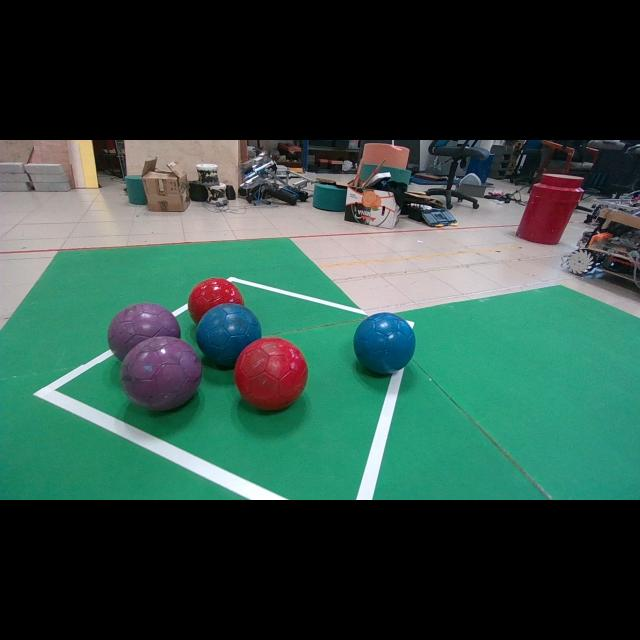B: (196, 304, 261, 366), (354, 312, 415, 374)
P: (109, 304, 202, 411), (108, 302, 180, 360)
R: (234, 338, 308, 410), (188, 278, 244, 323)
